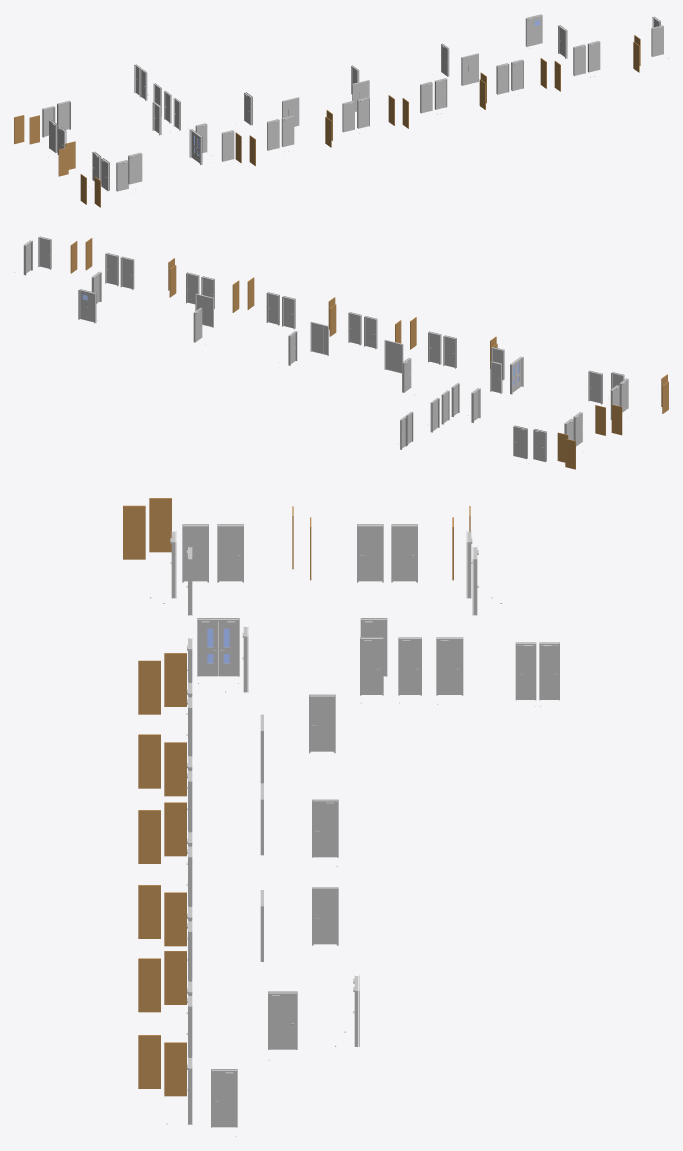
The model's file is Building Model - Excavation and Trench - updated_1kn71nZ$z5OvtVVlfMoOvv-Piso 2_IfcDoor.dae.
The picture shows the model from 3 angles, top to bottom: view 1: azimuth 30°, elevation 25°; view 2: azimuth 150°, elevation 25°; view 3: azimuth 270°, elevation 25°; orthographic projection. The views are drawn at different scales.
Parts seen in each view (by area): view 1: 25W0J6Ndn57wDQxUjz6rer, 25W0J6Ndn57wDQxUjz6rgI, 25W0J6Ndn57wDQxUjz6rtp, 25W0J6Ndn57wDQxUjz6rjb, 25W0J6Ndn57wDQxUjz6rjw, 25W0J6Ndn57wDQxUjz6ry9, 25W0J6Ndn57wDQxUjz6rju, 25W0J6Ndn57wDQxUjz6rjz, 25W0J6Ndn57wDQxUjz6rQl, 25W0J6Ndn57wDQxUjz6rjc, 25W0J6Ndn57wDQxUjz6rjy, 25W0J6Ndn57wDQxUjz6rgG (+12 smaller); view 2: 25W0J6Ndn57wDQxUjz6rgG, 25W0J6Ndn57wDQxUjz6rer, 25W0J6Ndn57wDQxUjz6rgH, 25W0J6Ndn57wDQxUjz6rgI, 25W0J6Ndn57wDQxUjz6rto, 25W0J6Ndn57wDQxUjz6rtp, 25W0J6Ndn57wDQxUjz6rjy, 25W0J6Ndn57wDQxUjz6r0s, 25W0J6Ndn57wDQxUjz6rQl, 25W0J6Ndn57wDQxUjz6rjv, 25W0J6Ndn57wDQxUjz6rja, 25W0J6Ndn57wDQxUjz6rjx (+7 smaller); view 3: 25W0J6Ndn57wDQxUjz6rQl, 25W0J6Ndn57wDQxUjz6rtn, 25W0J6Ndn57wDQxUjz6rjj, 25W0J6Ndn57wDQxUjz6rOk, 25W0J6Ndn57wDQxUjz6rjl, 25W0J6Ndn57wDQxUjz6rjk, 25W0J6Ndn57wDQxUjz6rPS, 25W0J6Ndn57wDQxUjz6rjY, 25W0J6Ndn57wDQxUjz6rFG, 25W0J6Ndn57wDQxUjz6rjX, 25W0J6Ndn57wDQxUjz6rjW, 25W0J6Ndn57wDQxUjz6riS (+17 smaller).
Part boxes in pixels (<box>): 25W0J6Ndn57wDQxUjz6rer: <box>525,14,542,48</box>; 25W0J6Ndn57wDQxUjz6rgI: <box>461,53,478,85</box>; 25W0J6Ndn57wDQxUjz6rtp: <box>128,152,142,184</box>; 25W0J6Ndn57wDQxUjz6rjb: <box>281,115,294,151</box>; 25W0J6Ndn57wDQxUjz6rjw: <box>434,78,447,113</box>; 25W0J6Ndn57wDQxUjz6ry9: <box>221,130,234,161</box>; 25W0J6Ndn57wDQxUjz6rju: <box>496,63,509,94</box>; 25W0J6Ndn57wDQxUjz6rjz: <box>587,41,600,76</box>; 25W0J6Ndn57wDQxUjz6rQl: <box>189,129,209,164</box>; 25W0J6Ndn57wDQxUjz6rjc: <box>267,119,284,152</box>; 25W0J6Ndn57wDQxUjz6rjy: <box>573,44,590,77</box>; 25W0J6Ndn57wDQxUjz6rgG: <box>282,97,299,126</box>; 25W0J6Ndn57wDQxUjz6rgG: <box>384,340,403,373</box>; 25W0J6Ndn57wDQxUjz6rer: <box>78,289,98,323</box>; 25W0J6Ndn57wDQxUjz6rgH: <box>310,321,328,355</box>; 25W0J6Ndn57wDQxUjz6rgI: <box>195,293,213,327</box>; 25W0J6Ndn57wDQxUjz6rto: <box>513,425,527,463</box>; 25W0J6Ndn57wDQxUjz6rtp: <box>588,370,608,404</box>; 25W0J6Ndn57wDQxUjz6rjy: <box>120,256,134,289</box>; 25W0J6Ndn57wDQxUjz6r0s: <box>528,429,546,463</box>; 25W0J6Ndn57wDQxUjz6rQl: <box>502,356,523,394</box>; 25W0J6Ndn57wDQxUjz6rjv: <box>282,296,295,329</box>; 25W0J6Ndn57wDQxUjz6rja: <box>364,316,377,349</box>; 25W0J6Ndn57wDQxUjz6rjx: <box>348,312,361,345</box>; 25W0J6Ndn57wDQxUjz6rQl: <box>197,618,239,683</box>; 25W0J6Ndn57wDQxUjz6rtn: <box>268,991,297,1060</box>; 25W0J6Ndn57wDQxUjz6rjj: <box>436,637,463,704</box>; 25W0J6Ndn57wDQxUjz6rOk: <box>312,799,338,866</box>; 25W0J6Ndn57wDQxUjz6rjl: <box>211,1069,237,1136</box>; 25W0J6Ndn57wDQxUjz6rjk: <box>309,694,335,753</box>; 25W0J6Ndn57wDQxUjz6rPS: <box>312,887,338,945</box>; 25W0J6Ndn57wDQxUjz6rjY: <box>357,524,383,582</box>; 25W0J6Ndn57wDQxUjz6rFG: <box>391,524,417,582</box>; 25W0J6Ndn57wDQxUjz6rjX: <box>217,524,243,582</box>; 25W0J6Ndn57wDQxUjz6rjW: <box>182,524,208,582</box>; 25W0J6Ndn57wDQxUjz6riS: <box>398,637,421,703</box>.
Size of the model in its own units: 47.02 by 14.84 by 2.12.
